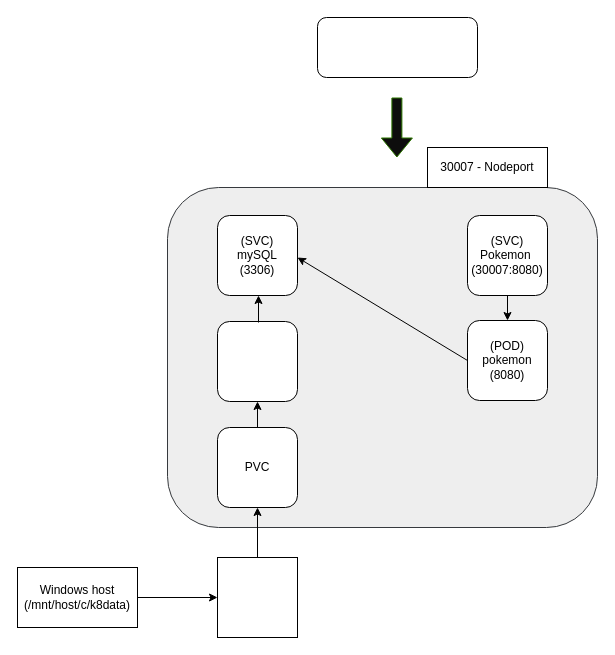
This 615x655 diagram has some shape labels left out. Each missing label, with the centre of its shape:
"(POD) mySQL (3306)" belongs at [257,361].
"CURL / Browser" belongs at [397,47].
"Persistent Volume" belongs at [257,597].
